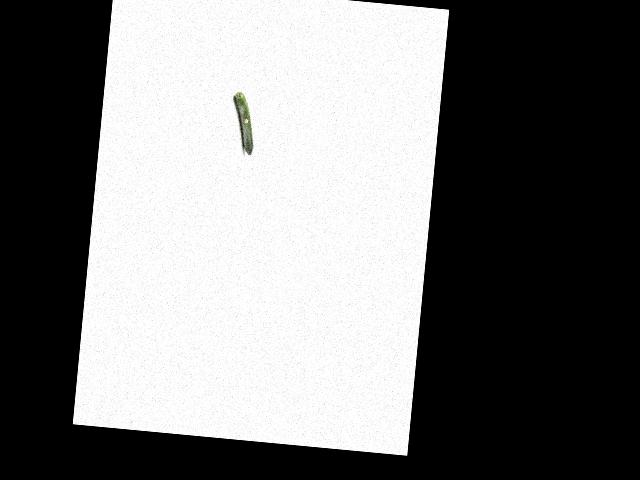cucumber: (229, 91, 258, 155)
